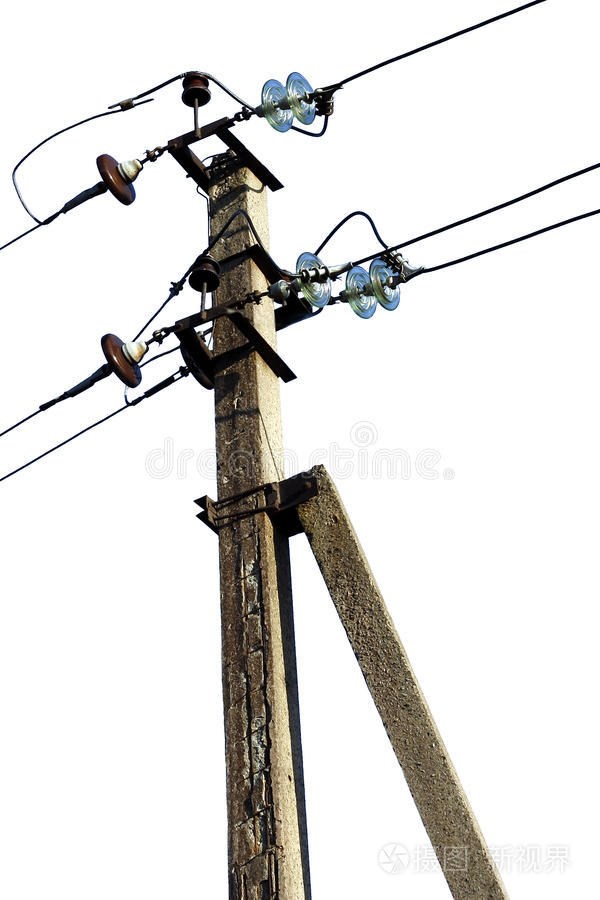insulator: (346, 256, 403, 321), (261, 73, 320, 131), (95, 335, 143, 392), (93, 150, 136, 209), (295, 253, 331, 310)
